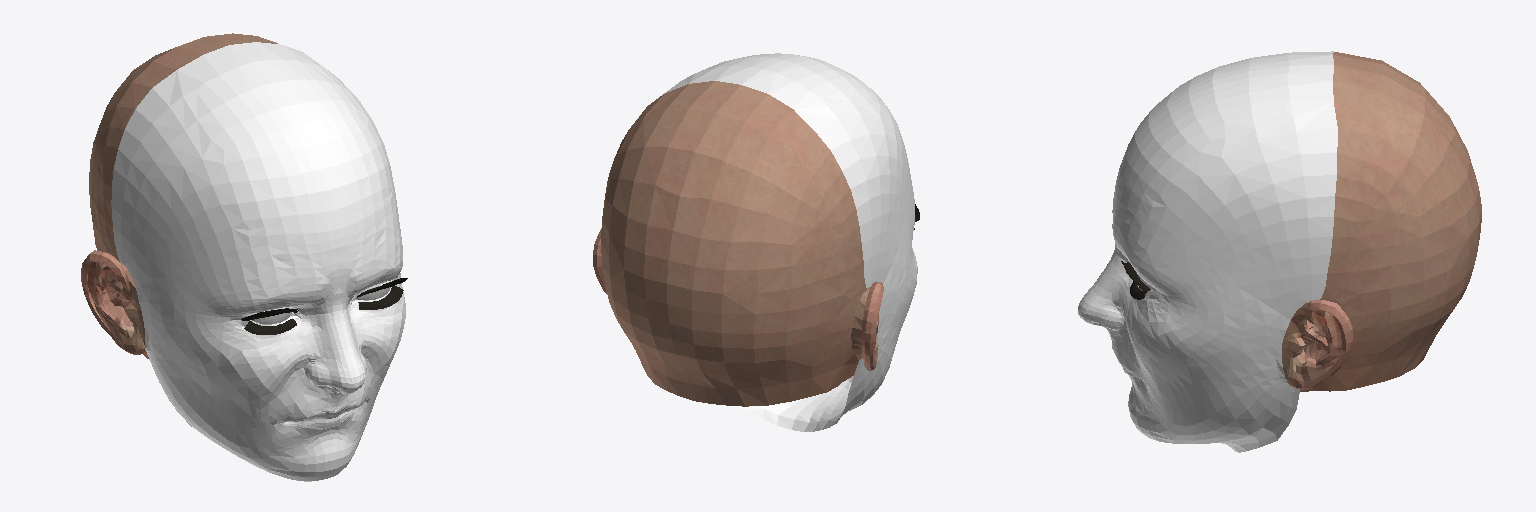
3 views of the same model, side by side, from view 1: azimuth 30°, elevation 25°; view 2: azimuth 150°, elevation 25°; view 3: azimuth 270°, elevation 25° (orthographic).
Visible parts, largest first — view 1: Genesis2Female; view 2: Genesis2Female; view 3: Genesis2Female.
Part boxes in pixels (bbox=[...]): Genesis2Female: bbox=[81, 33, 407, 481]; Genesis2Female: bbox=[593, 53, 919, 431]; Genesis2Female: bbox=[1078, 51, 1481, 452].
Size of the model in its own units: 18.04 by 23.22 by 22.3.
17 materials, 1 textured.